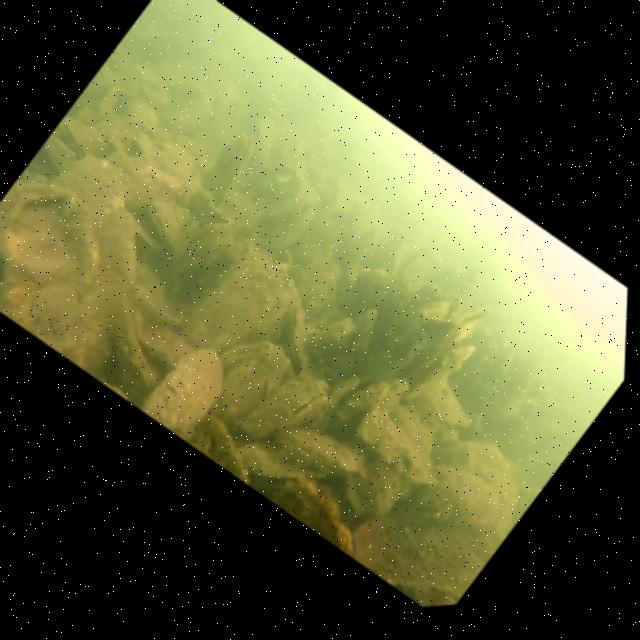Oyster-Closed: (162, 238, 305, 392), (148, 195, 265, 325), (230, 351, 339, 468), (80, 295, 188, 401), (267, 403, 376, 506), (227, 424, 315, 507), (334, 358, 414, 444), (117, 306, 195, 377), (327, 300, 396, 377), (263, 303, 333, 376), (47, 106, 119, 174), (305, 365, 366, 436), (305, 303, 363, 367), (295, 279, 337, 327)
Oyster-Indeterminate: (0, 154, 152, 363), (14, 138, 188, 314), (337, 456, 510, 613), (187, 321, 300, 443), (403, 446, 512, 553), (139, 333, 241, 445), (330, 256, 419, 348), (332, 450, 412, 533)
Oyster-Open: (396, 312, 489, 420), (191, 124, 267, 211), (132, 189, 194, 252)
